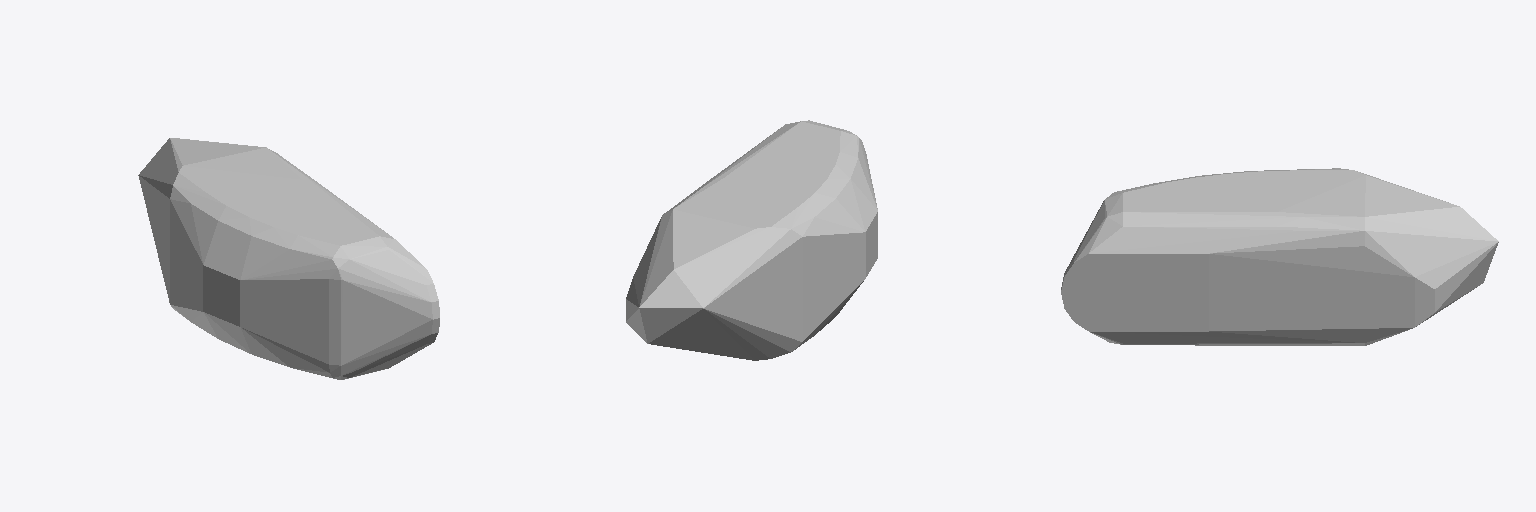
Rendered from fingertip_col.obj.
The picture shows the model from 3 angles: view 1: azimuth 30°, elevation 25°; view 2: azimuth 150°, elevation 25°; view 3: azimuth 270°, elevation 25°; orthographic projection.
Bounding box in the file's own units: 0.0202 × 0.017 × 0.051.